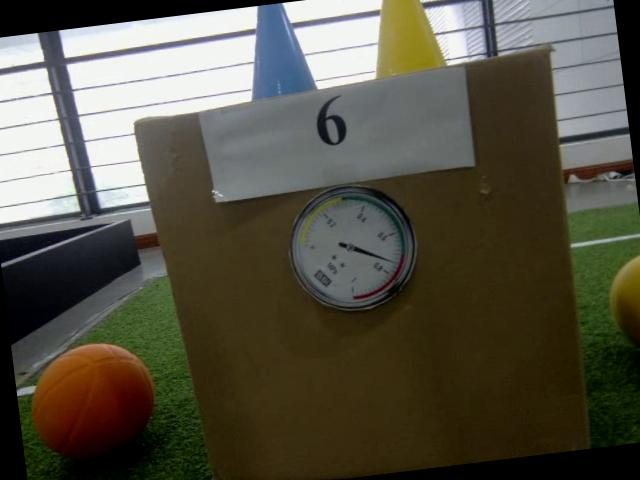6: (311, 92, 350, 150)
Dashboard: (280, 177, 424, 319)
blue_barrel: (236, 0, 320, 101)
orange_ball: (24, 334, 164, 468)
ssi: (311, 267, 334, 289)
yellow_ball: (604, 249, 640, 361)
yellow_barrel: (362, 0, 450, 80)
